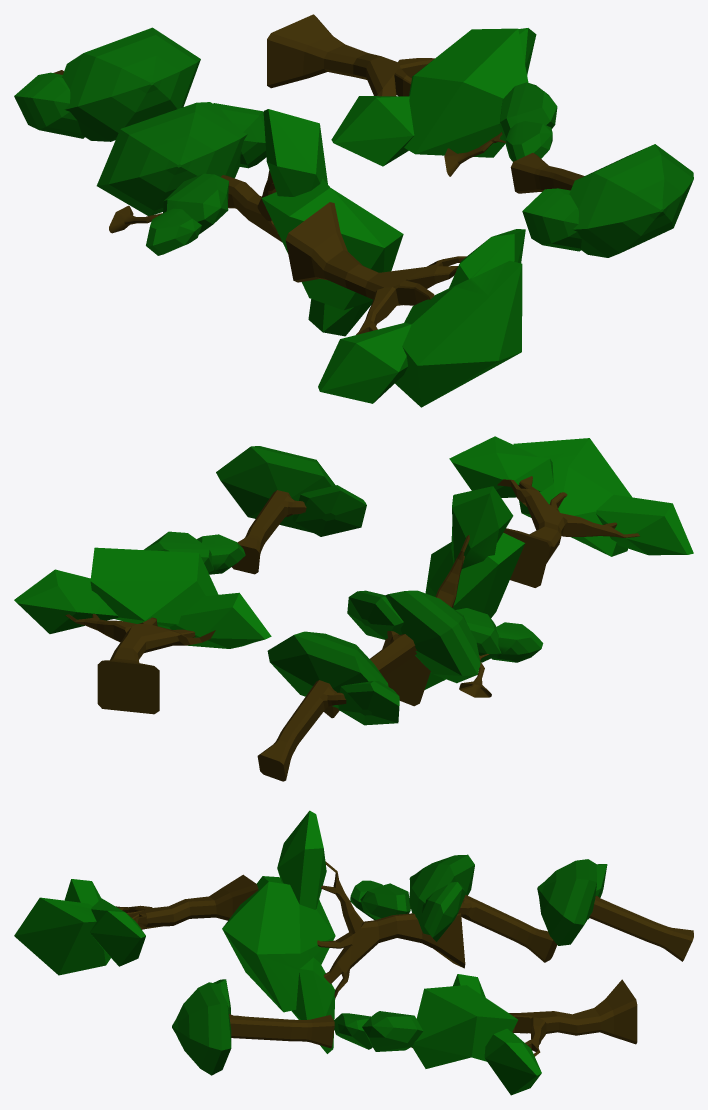
The model's file is CollapsedTreeGroup.fbx.
The picture shows the model from 3 angles, top to bottom: view 1: azimuth 30°, elevation 25°; view 2: azimuth 150°, elevation 25°; view 3: azimuth 270°, elevation 25°; orthographic projection. The views are drawn at different scales.
Visible parts, largest first — view 1: CollapsedTreeGroup; view 2: CollapsedTreeGroup; view 3: CollapsedTreeGroup.
Boxes of the visible parts, bbox=[...] form: CollapsedTreeGroup: bbox=[14, 14, 693, 407]; CollapsedTreeGroup: bbox=[14, 436, 693, 781]; CollapsedTreeGroup: bbox=[14, 810, 693, 1095].
Bounding box in the file's own units: 2971 × 1468 × 4331.
